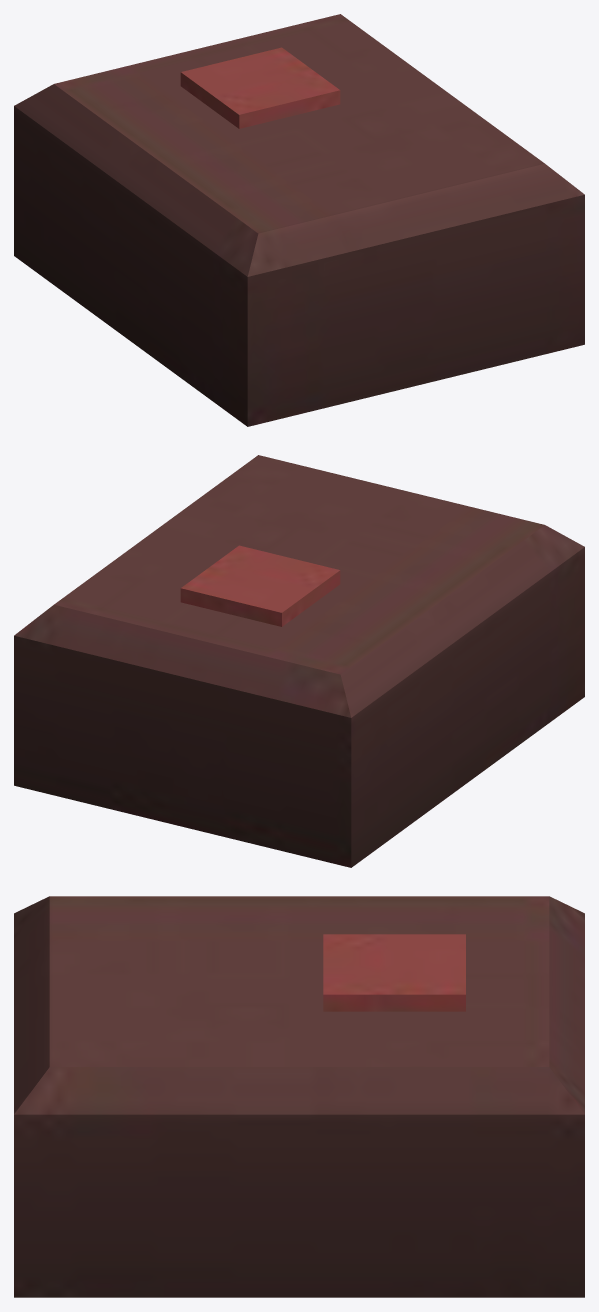
Rendered from constant-combinator.glb.
3 views of the same model, one above another, from view 1: azimuth 30°, elevation 25°; view 2: azimuth 150°, elevation 25°; view 3: azimuth 270°, elevation 25° (orthographic). The views are drawn at different scales.
Visible parts, largest first — view 1: constant-combinator; view 2: constant-combinator; view 3: constant-combinator.
Boxes of the visible parts, bbox=[...] form: constant-combinator: bbox=[14, 14, 584, 426]; constant-combinator: bbox=[14, 455, 584, 867]; constant-combinator: bbox=[14, 896, 584, 1297].
Size of the model in its own units: 0.2 by 0.108 by 0.24.
Materials: 1 (1 with a texture image).
